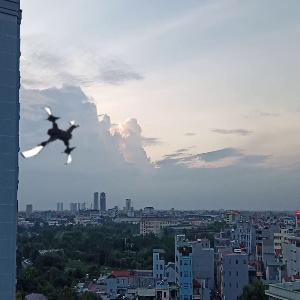drone: (17, 105, 85, 173)
